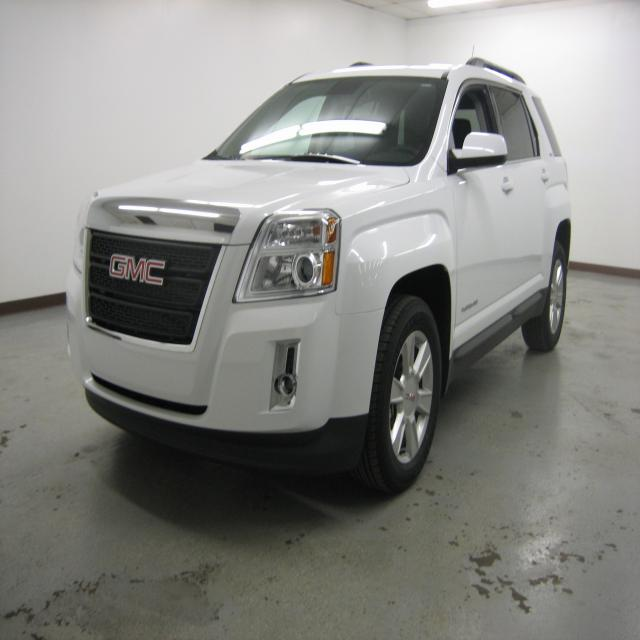car: (56, 52, 582, 504)
